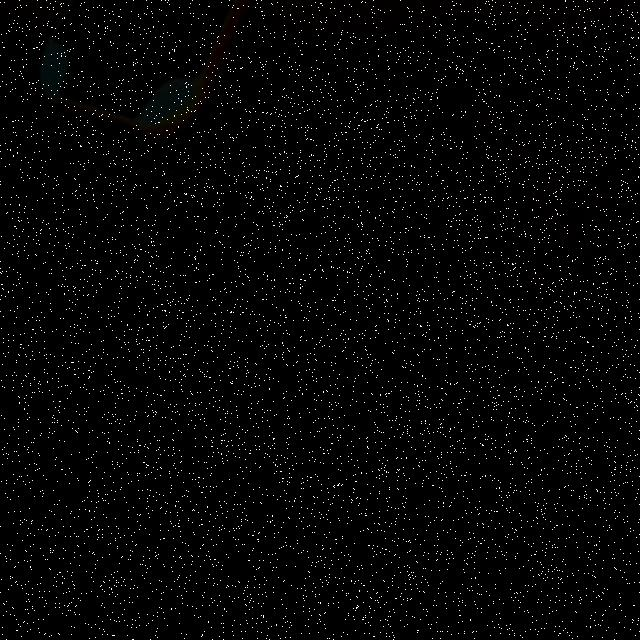adapter: (27, 0, 318, 312)
